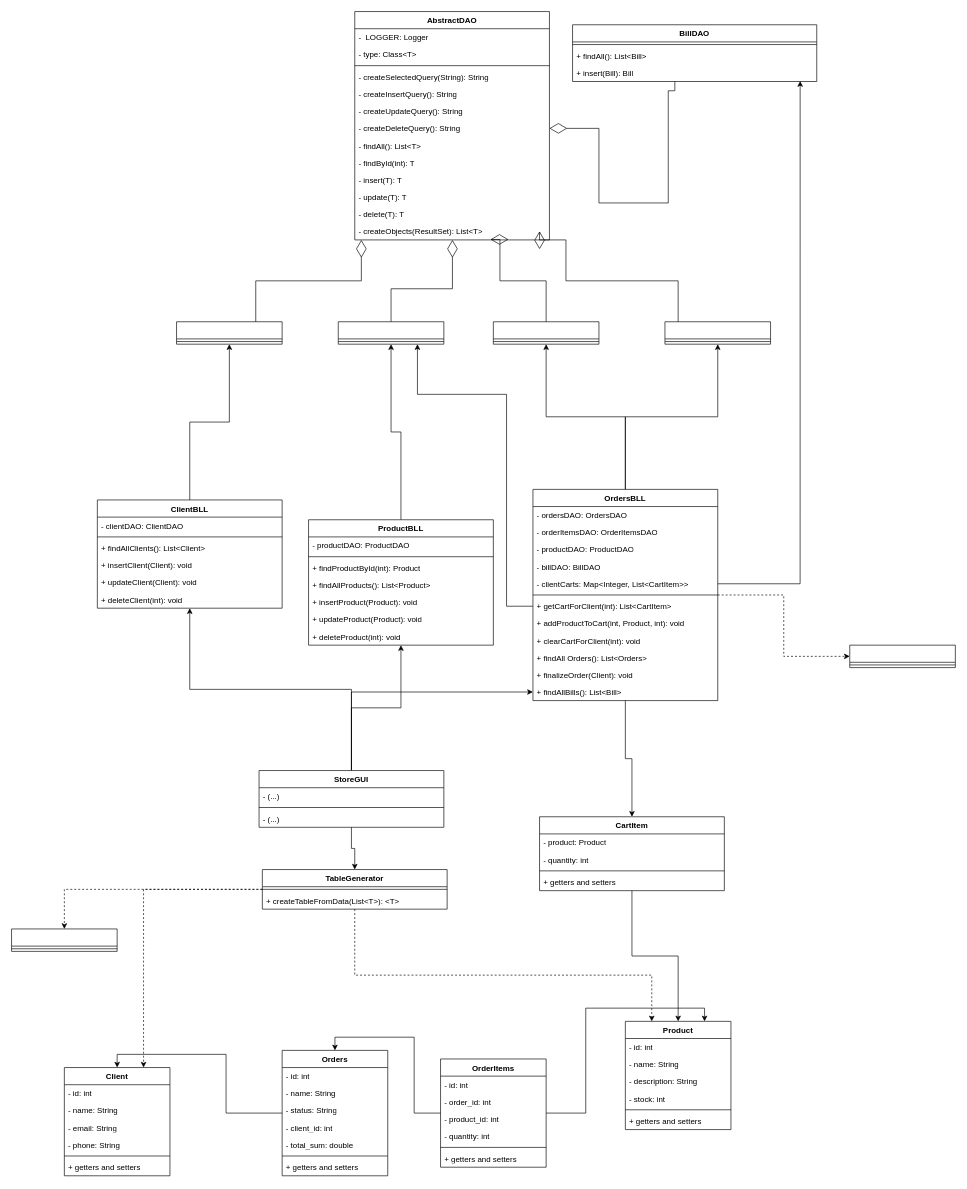
Image size: 967x1189. Some labels were removed from this diagram. Here are the shapes that lost their labels. From the top down, the centre of each, then its label:
the point at 229,332: ClientDAO
the point at 391,332: ProductDAO
the point at 546,332: OrdersDAO
the point at 717,332: OrderItemsDAO
the point at 902,656: UnderStockException
the point at 64,939: Bill
